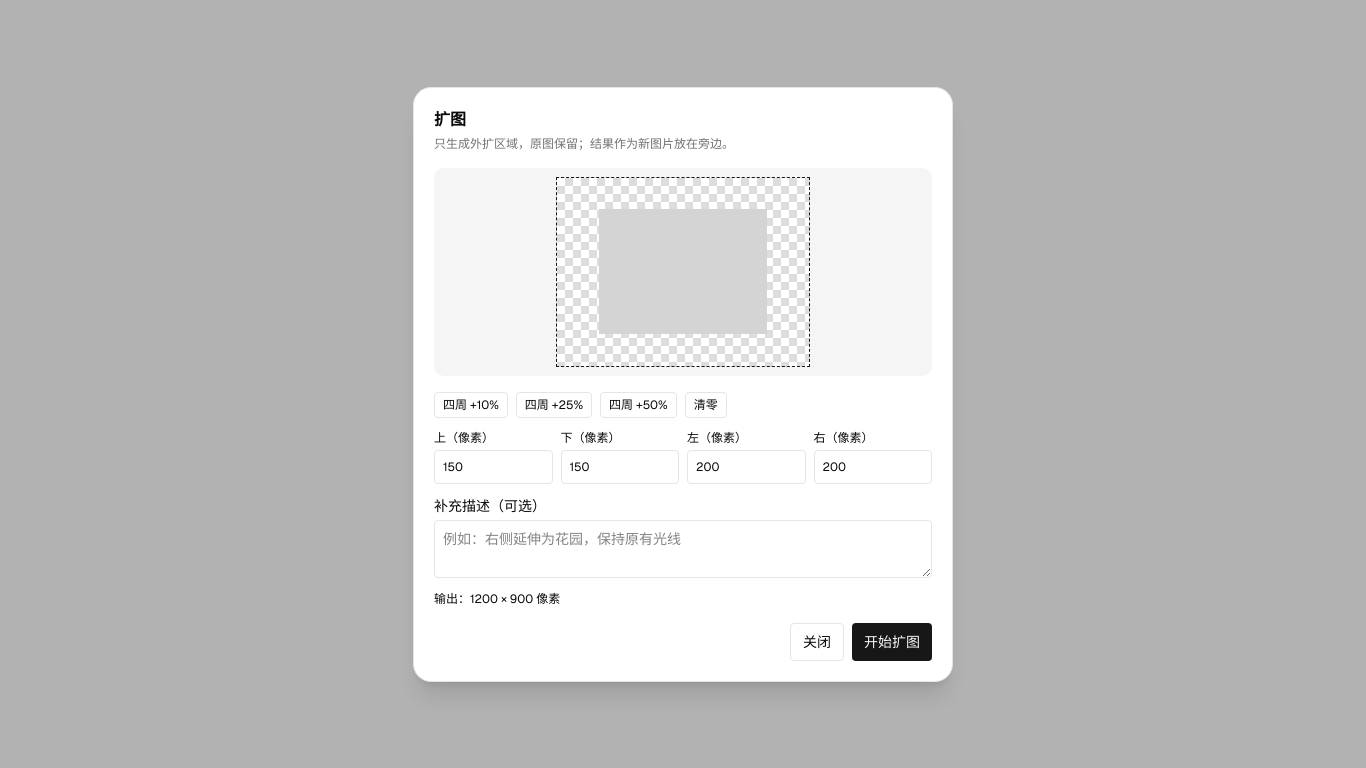
Scenario: keeps inputs open when submission is rejected
Click the button "开始扩图".
click(892, 642)  # box [852,622,932,660]
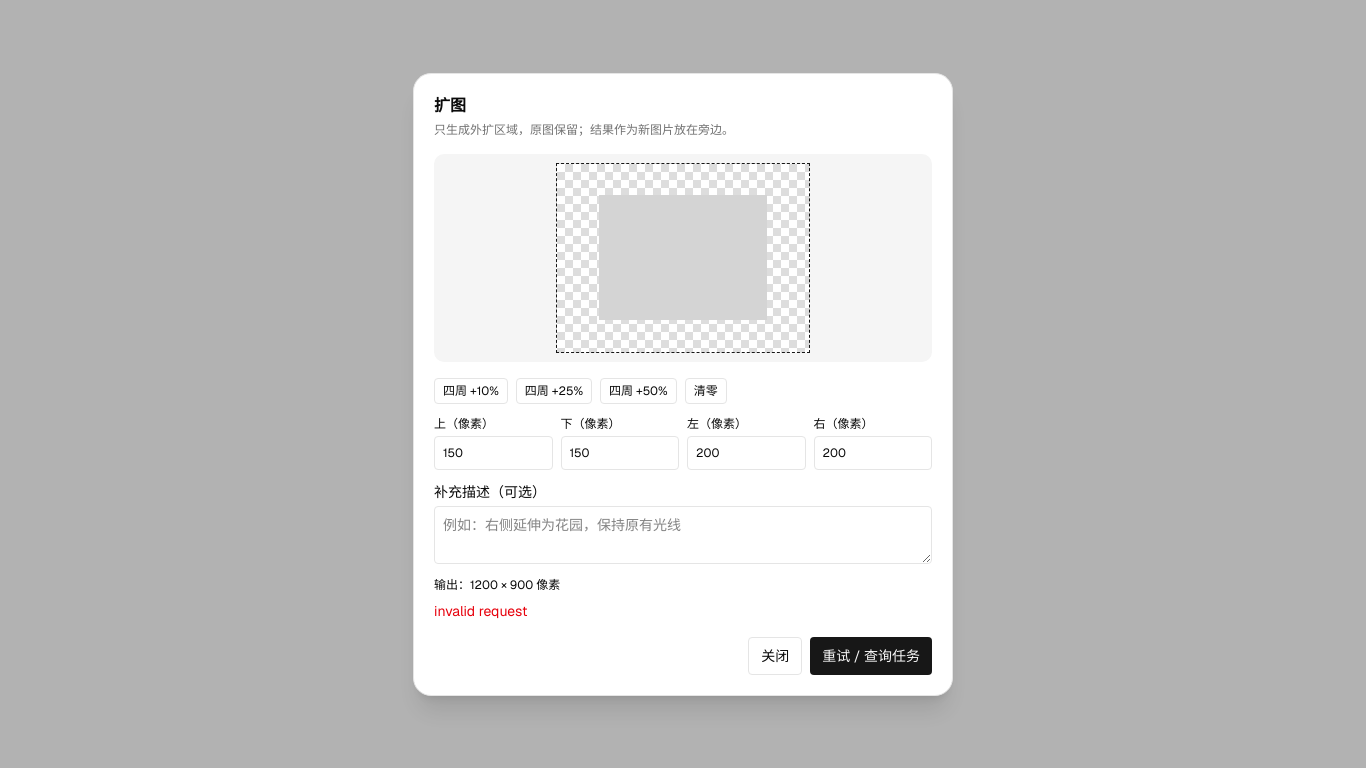
Expected: the text "invalid request" is shown, [434,602,527,620]
